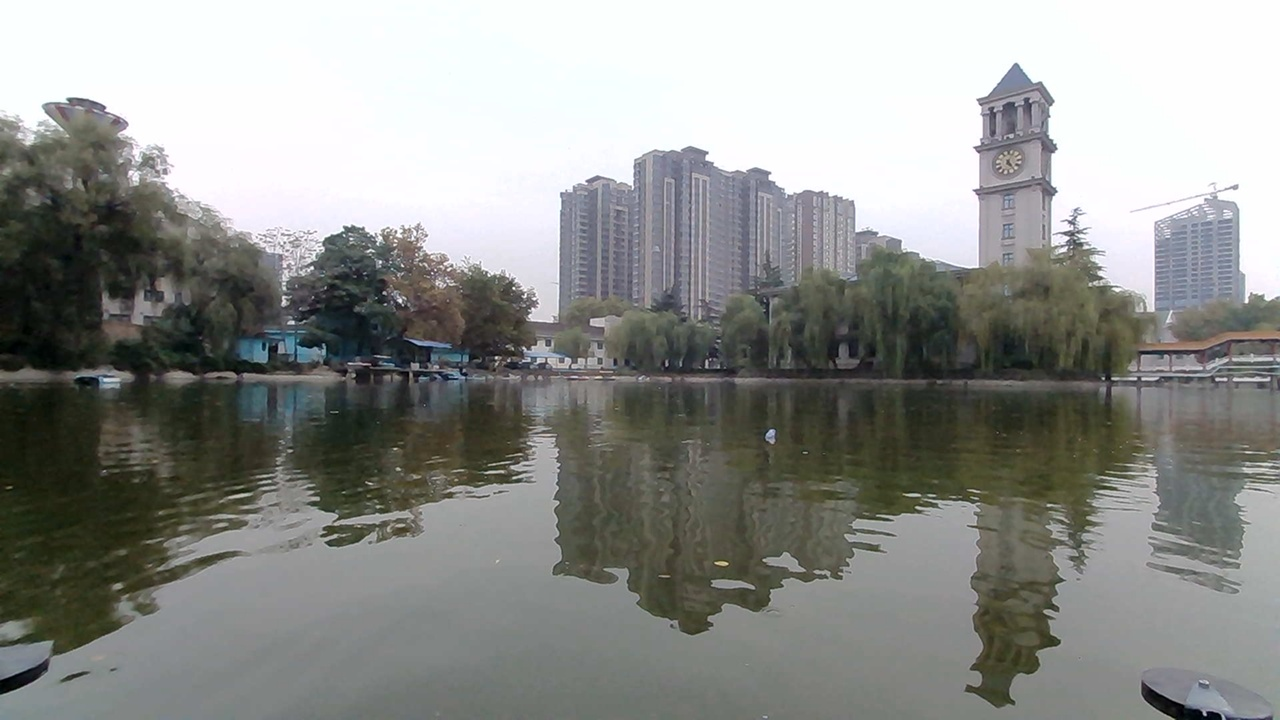bottle: (748, 416, 797, 448)
